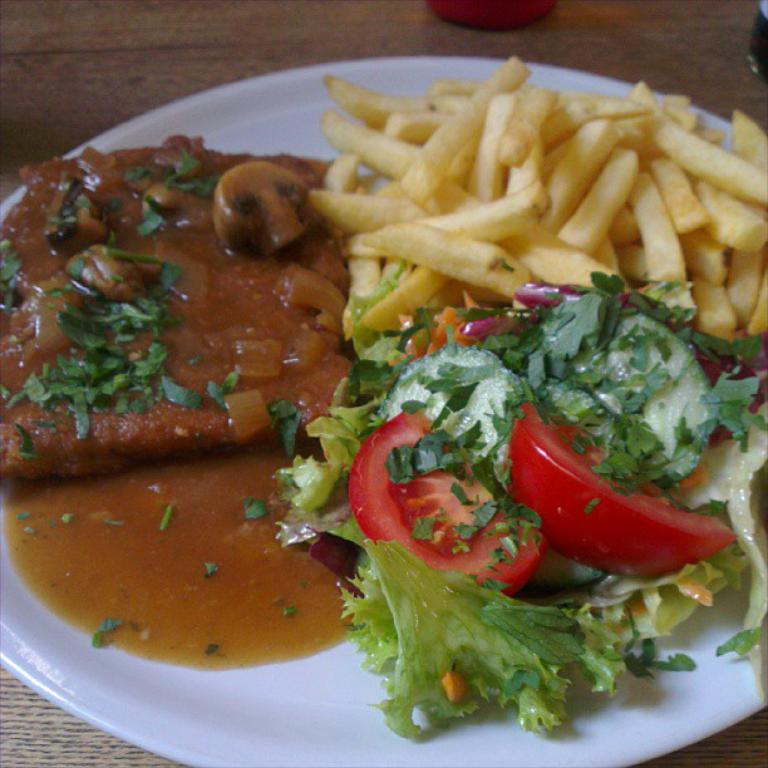French fries: (277, 58, 727, 353)
